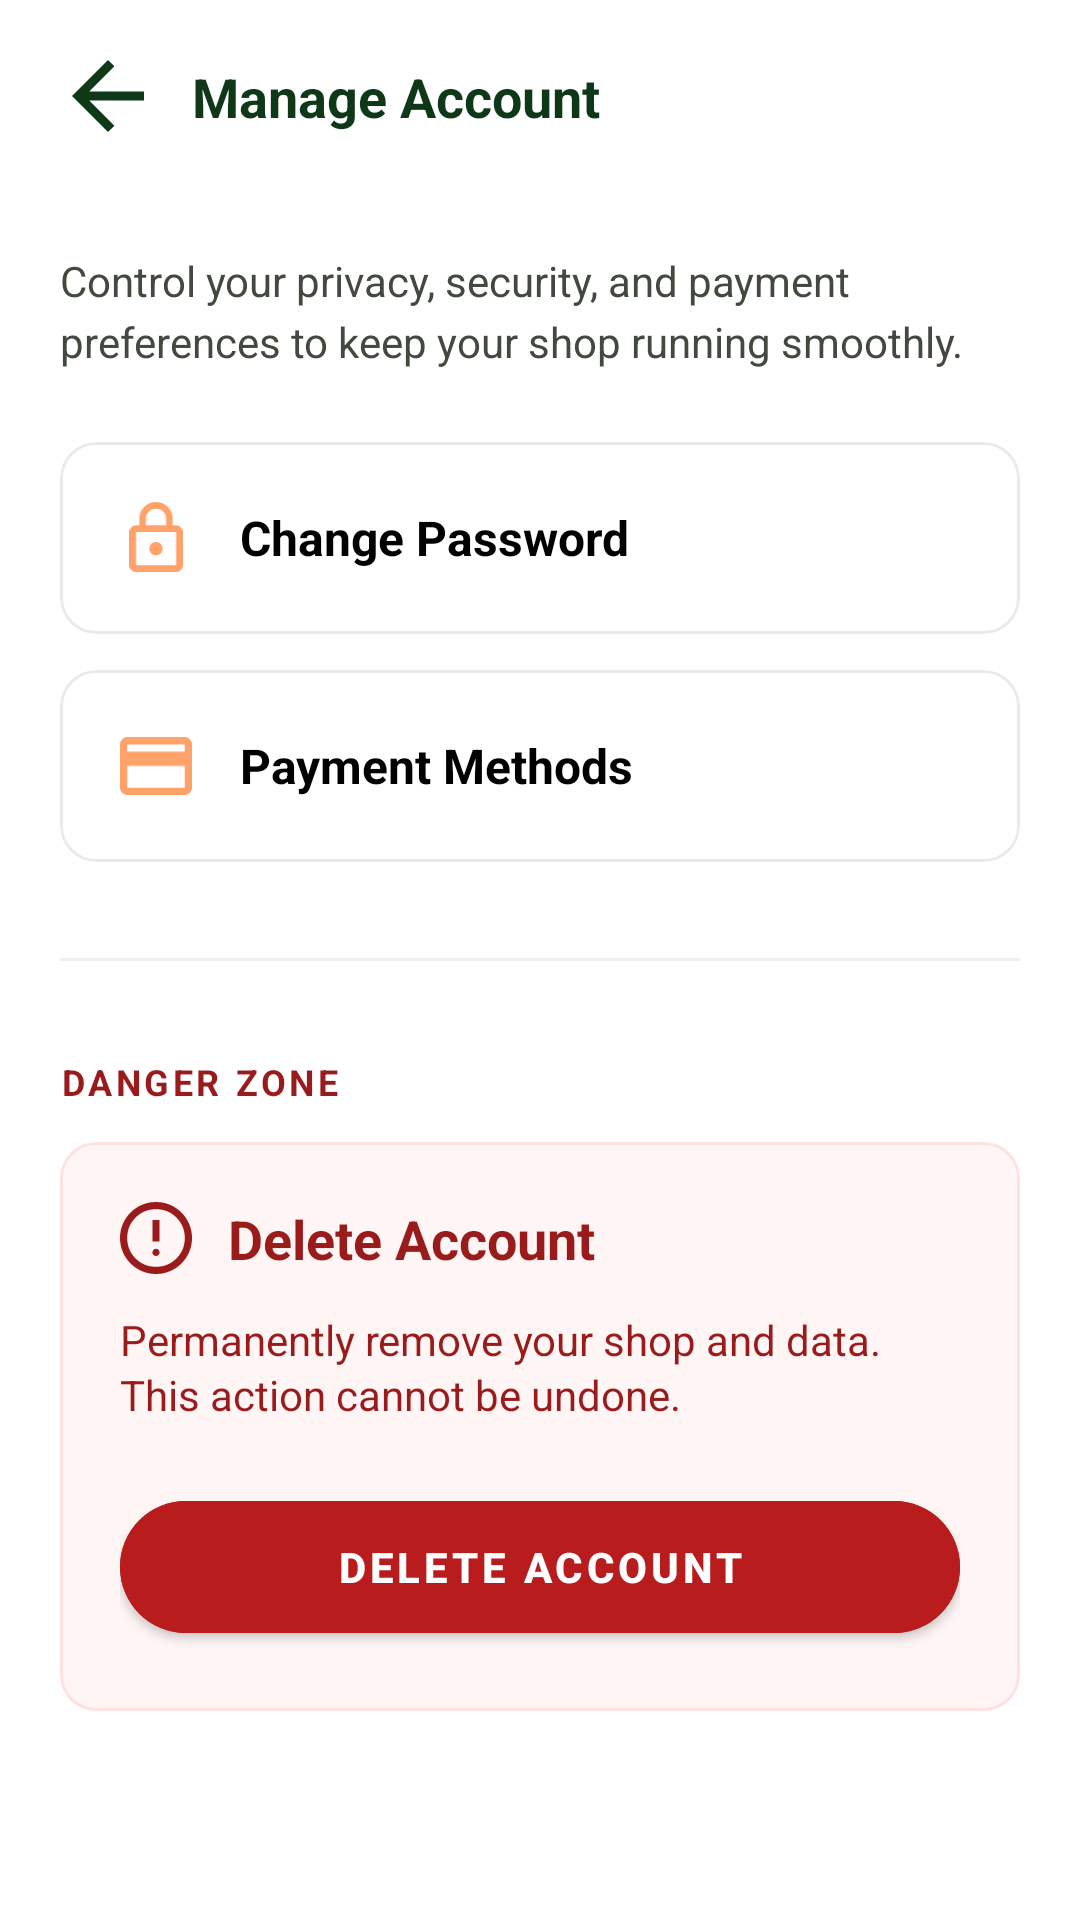

Icons on this 1080×1920 Android screen, each with its box as (x1, y1, x2, y2):
arrow back: (72, 60, 144, 132)
lock: (129, 502, 183, 572)
